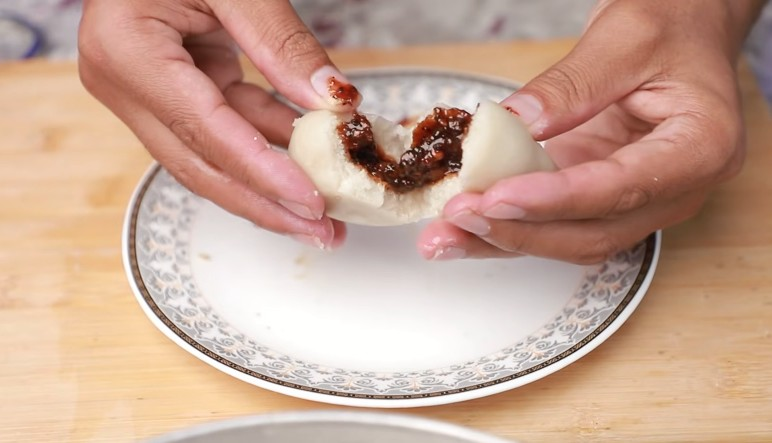yomari: (287, 95, 532, 225)
